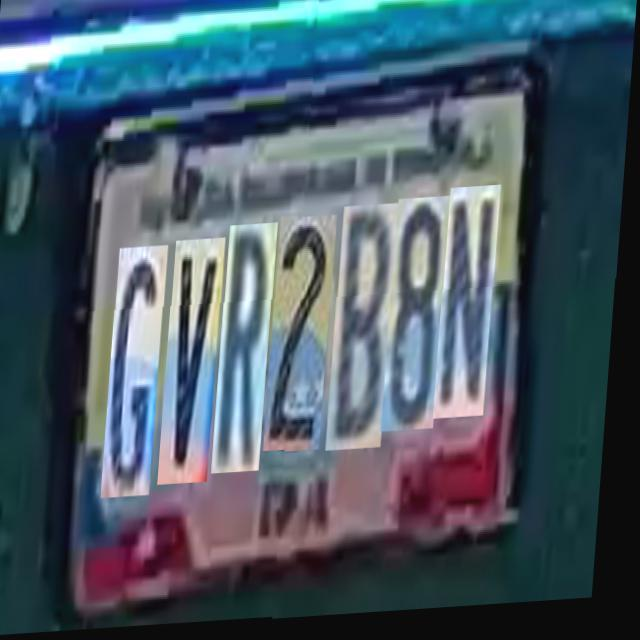2: (271, 220, 341, 457)
8: (388, 202, 454, 438)
B: (334, 208, 403, 456)
G: (109, 250, 172, 502)
N: (440, 192, 504, 425)
R: (220, 228, 282, 478)
V: (166, 242, 230, 490)
